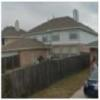chimneys: (72, 8, 80, 23), (14, 18, 20, 33)
